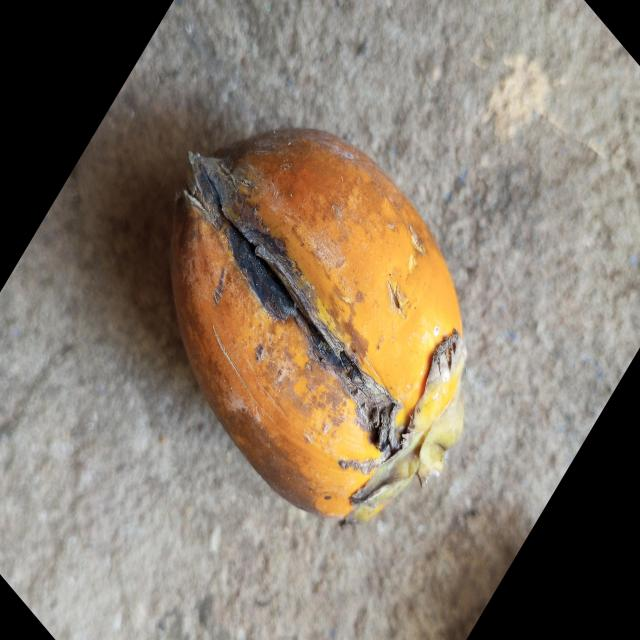damaged: (172, 129, 466, 522)
